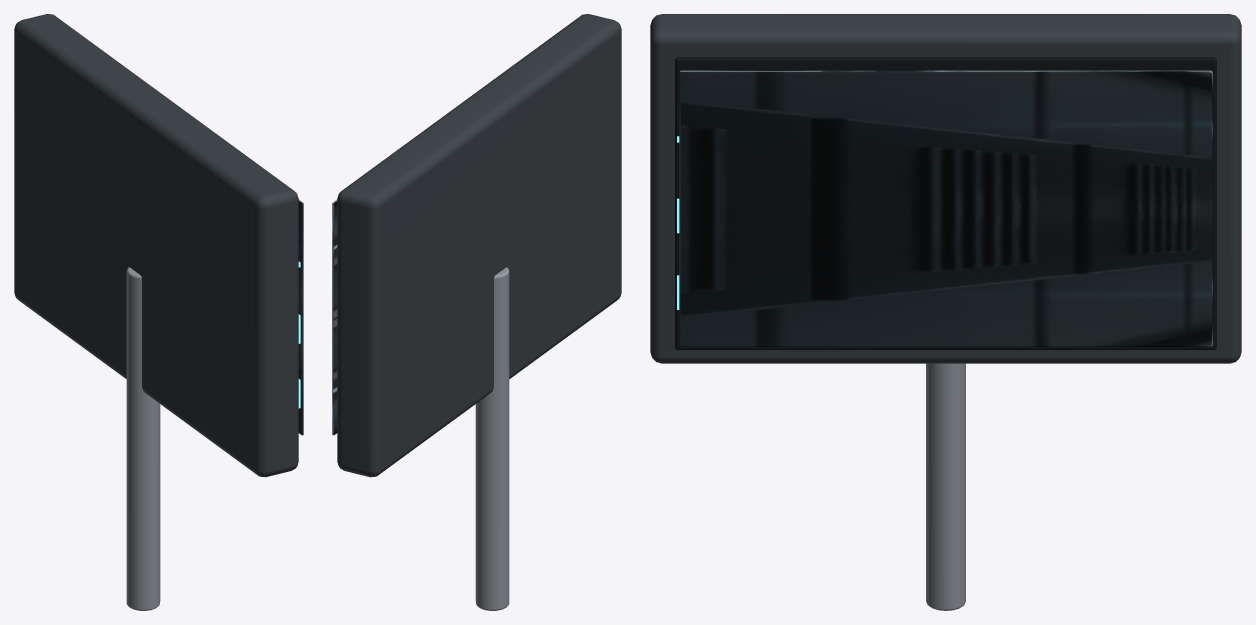
Rendered from ZH_ENV_Control_CCTV_Monitor_02.fbx.
The picture shows the model from 3 angles, left to right: view 1: azimuth 30°, elevation 25°; view 2: azimuth 150°, elevation 25°; view 3: azimuth 270°, elevation 25°; orthographic projection. The views are drawn at different scales.
Parts seen in each view (by area): view 1: CCTV 2 | frame.001, Monitor | pedestal.003, CCTV | live-room preview 2.001; view 2: CCTV 2 | frame.001, Monitor | pedestal.003, CCTV | live-room preview 2.001; view 3: CCTV | live-room preview 2.001, CCTV 2 | frame.001, CCTV 2 | screen.001, Monitor | pedestal.003.
Part boxes in pixels (x1,y1,x2,y2): CCTV 2 | frame.001: [14, 14, 298, 477]; Monitor | pedestal.003: [126, 267, 160, 610]; CCTV | live-room preview 2.001: [298, 199, 303, 435]; CCTV 2 | frame.001: [337, 14, 621, 477]; Monitor | pedestal.003: [475, 267, 509, 610]; CCTV | live-room preview 2.001: [332, 199, 337, 435]; CCTV | live-room preview 2.001: [679, 70, 1212, 346]; CCTV 2 | frame.001: [650, 14, 1241, 363]; CCTV 2 | screen.001: [675, 57, 1216, 349]; Monitor | pedestal.003: [926, 363, 965, 610].
Size of the model in its own units: 0.1935 by 1.45 by 1.32.
Materials: 5 (1 with a texture image).
